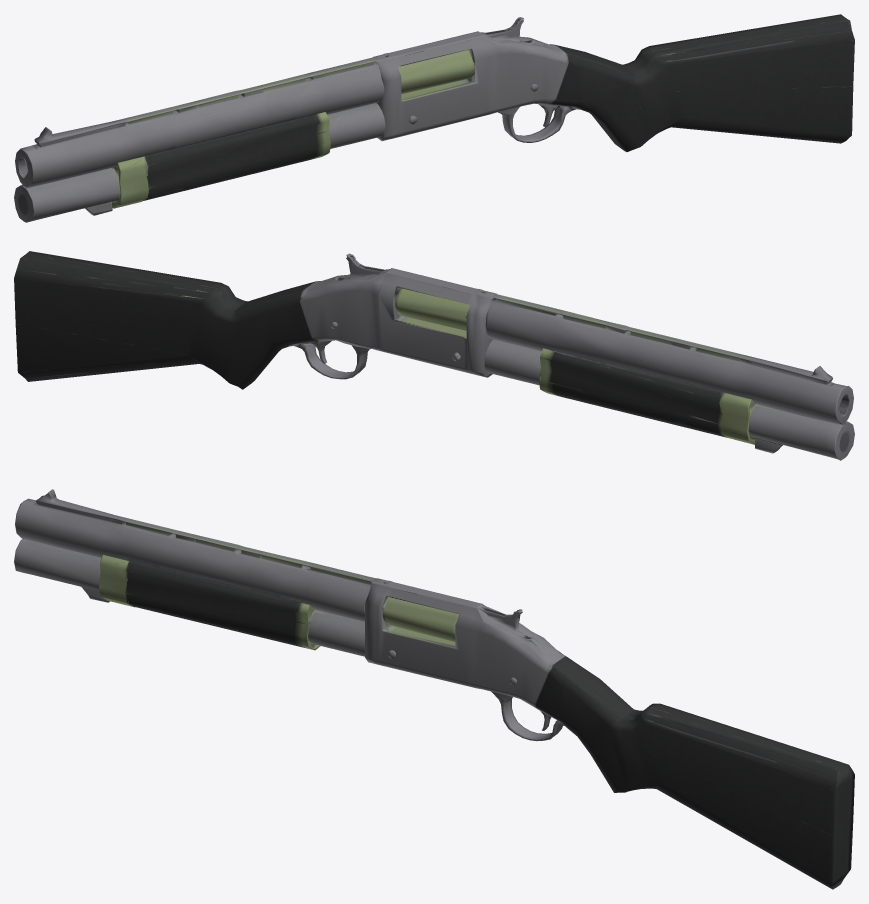
The model's file is sg_twinfang.glb.
The picture shows the model from 3 angles, top to bottom: view 1: azimuth 30°, elevation 25°; view 2: azimuth 150°, elevation 25°; view 3: azimuth 330°, elevation 25°; orthographic projection.
Bounding box in the file's own units: 0.9575 × 0.2275 × 0.0479.
1 material, 1 textured.
